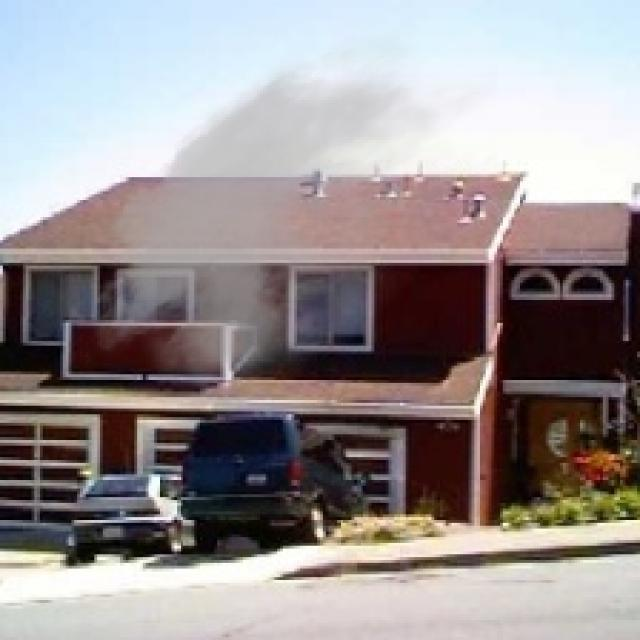smoke: (80, 23, 497, 414)
